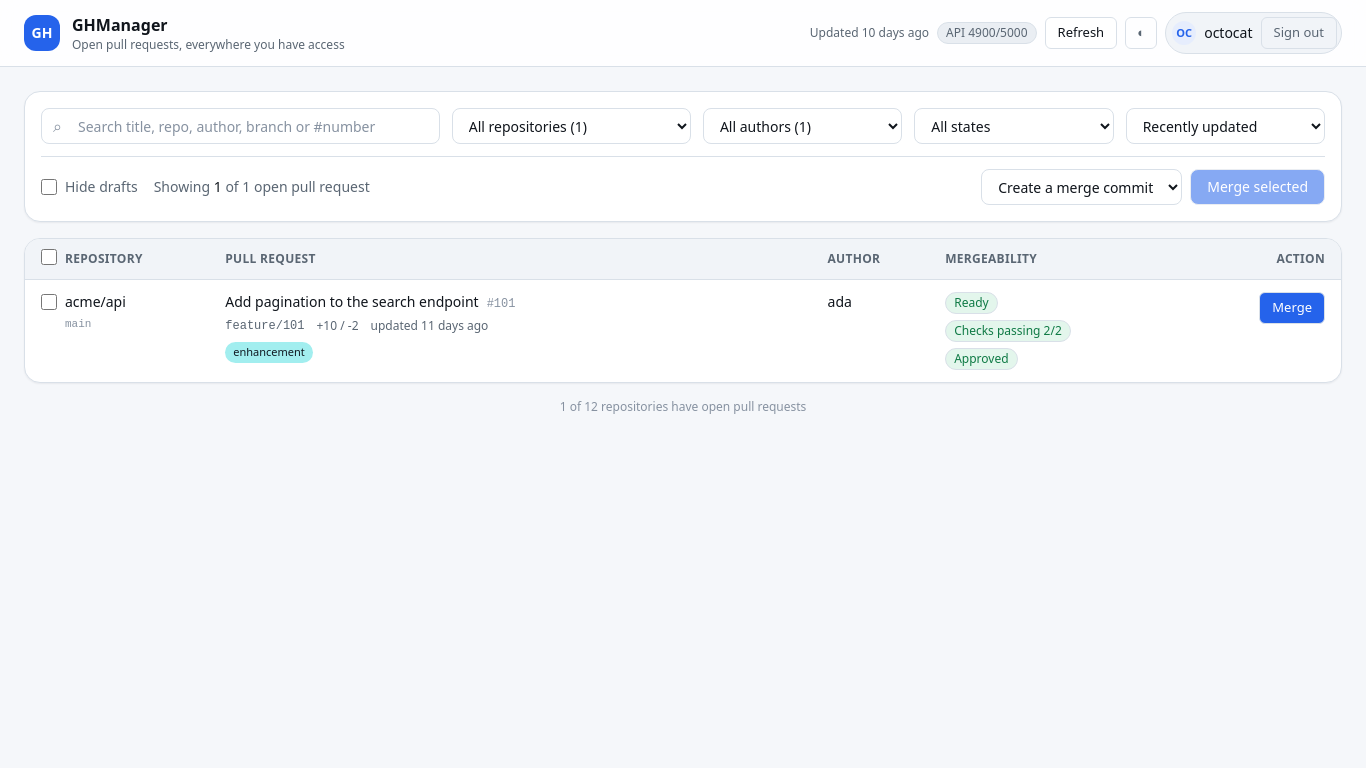
Scenario: Dashboard single merge › uses the selected merge method
The width and height of the screenshot is (1366, 768).
Check: the table is shown, box [25,239,1341,382]
Select "Squash and merge" in the dropdown named "Merge method" in the row of "1 open pull request" at [1082, 187], box [981,169,1182,205]
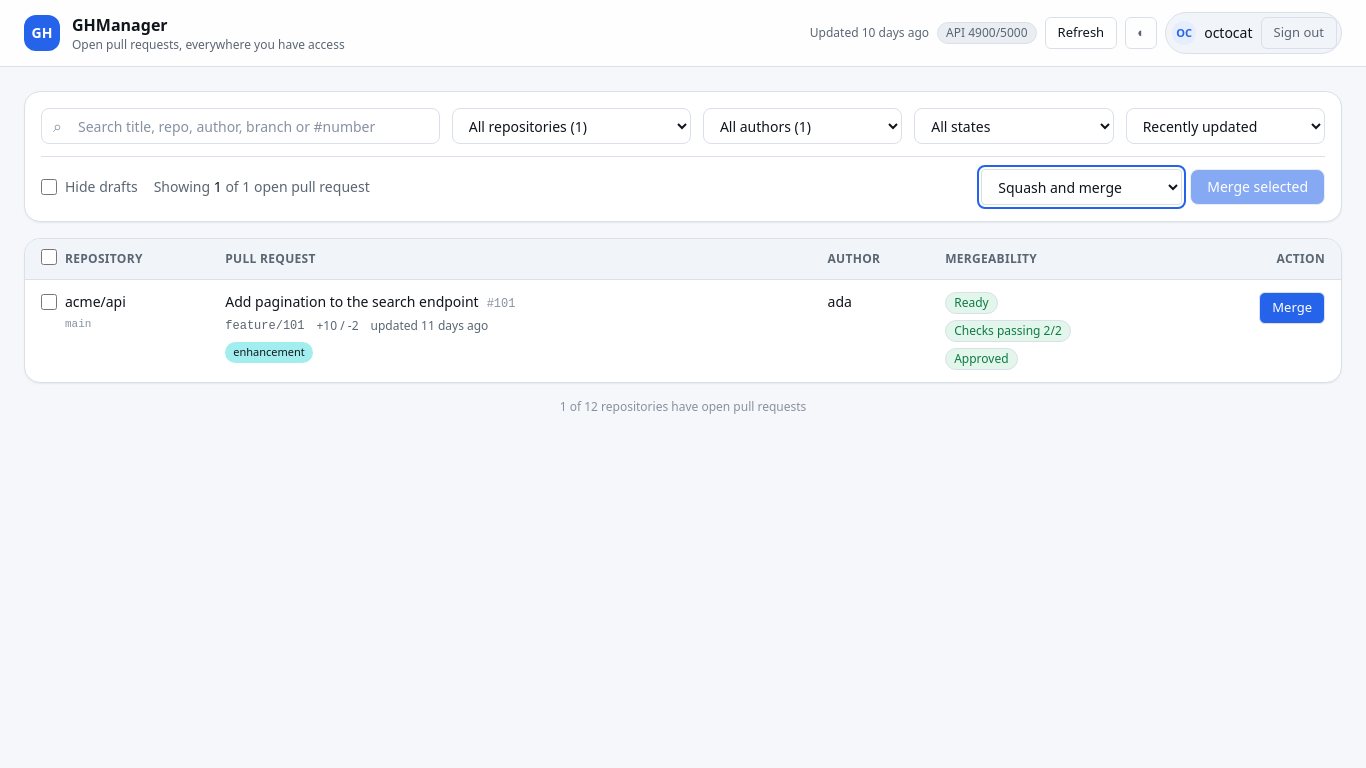
Click the button "Merge" at [1292, 308], box [1259,292,1325,324]
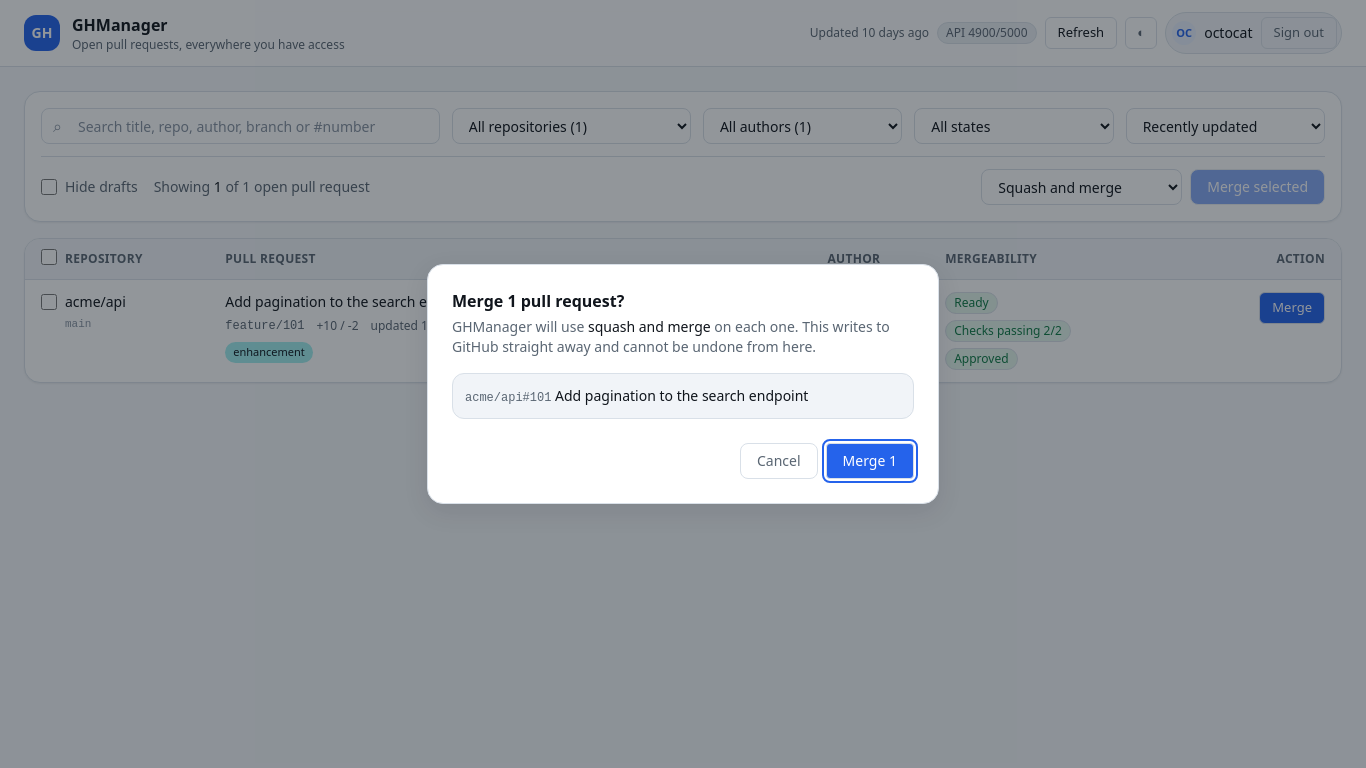
Click the button "Merge 1" at [870, 461], box [826,443,914,479]
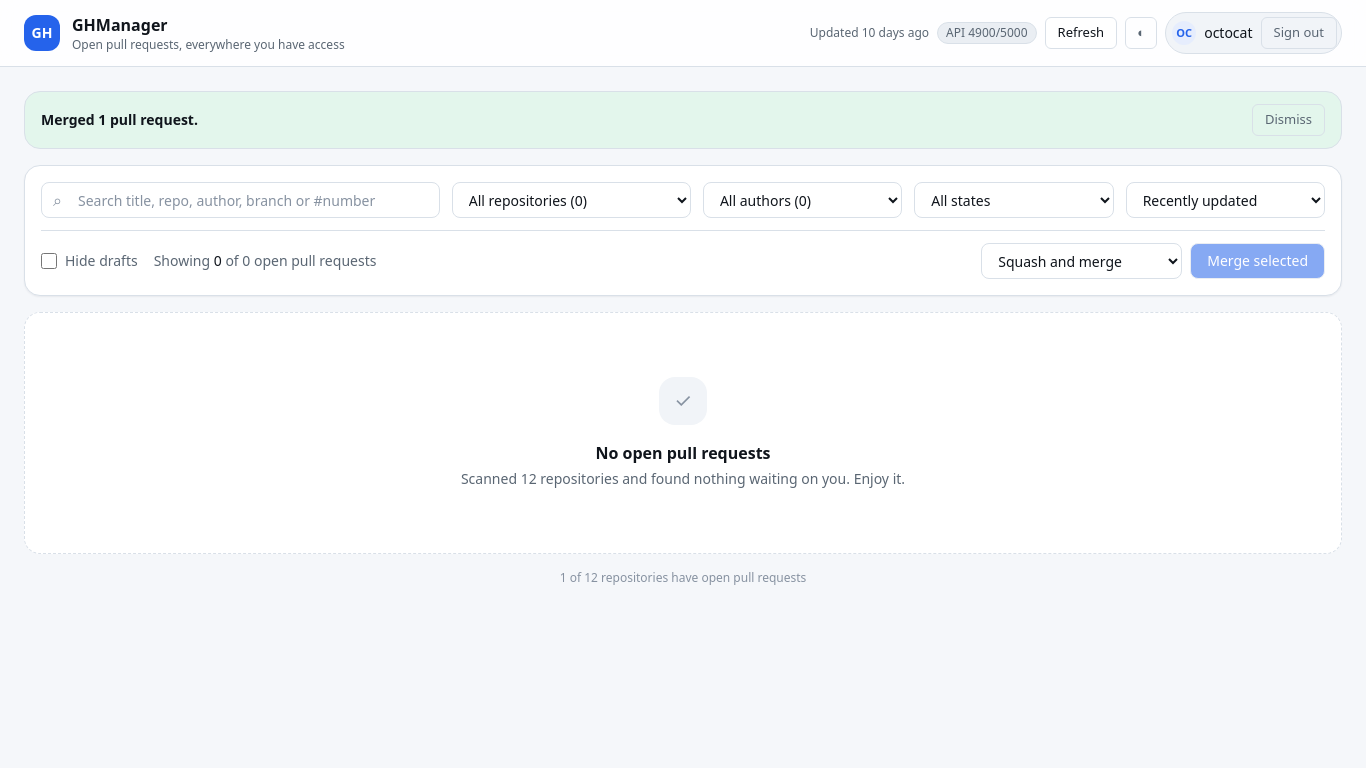
Check: the message "Merged 1 pull request. Dismiss" is shown, box [24,91,1342,149]
